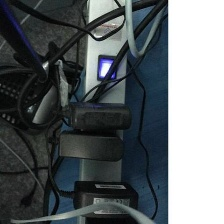three_eye_plug: (75, 0, 132, 224)
